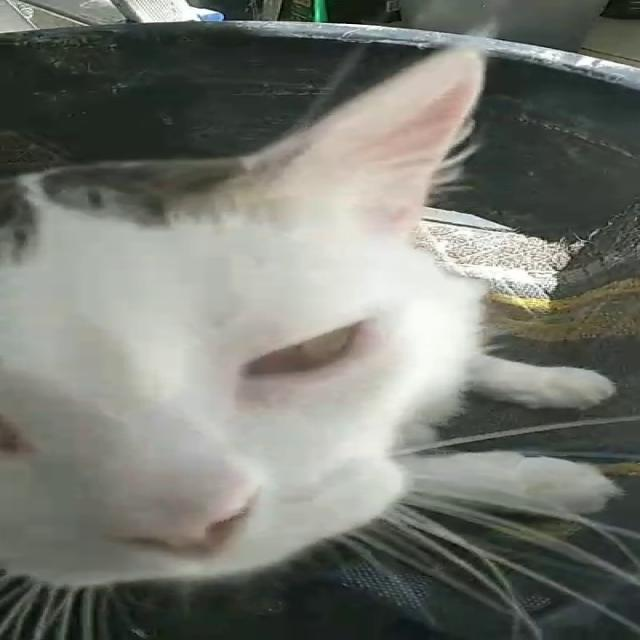Simba: (4, 4, 620, 639)
